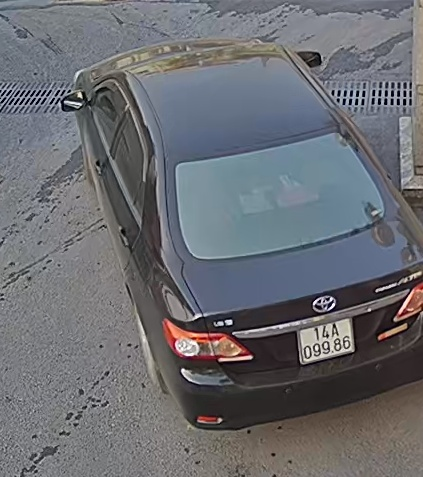vehicle plate: (291, 319, 365, 368)
